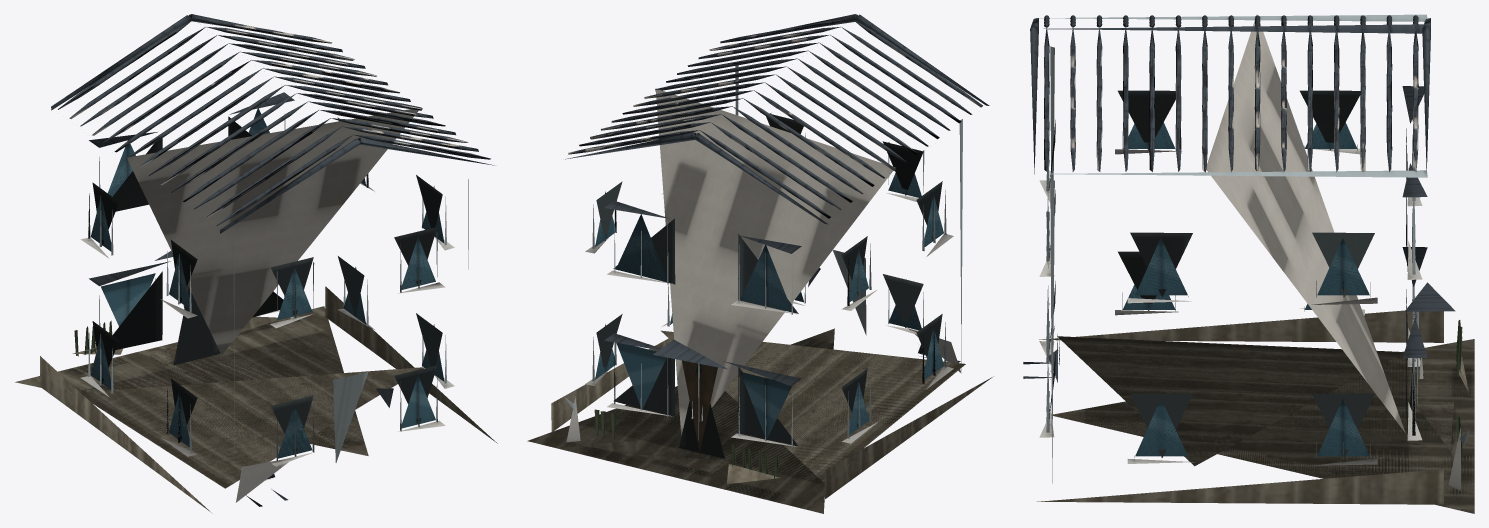
File: residential_001.obj
3 renders of one model, left to right at view 1: azimuth 30°, elevation 25°; view 2: azimuth 150°, elevation 25°; view 3: azimuth 270°, elevation 25°, orthographic. The views are drawn at different scales.
Parts seen in each view (by area): view 1: residential_001; view 2: residential_001; view 3: residential_001.
Part boxes in pixels (<box>): residential_001: <box>15,14,497,513</box>; residential_001: <box>527,14,993,513</box>; residential_001: <box>1023,14,1474,513</box>.
Bounding box in the file's own units: 6.82 × 7.25 × 7.39.
Materials: 1 (1 with a texture image).
